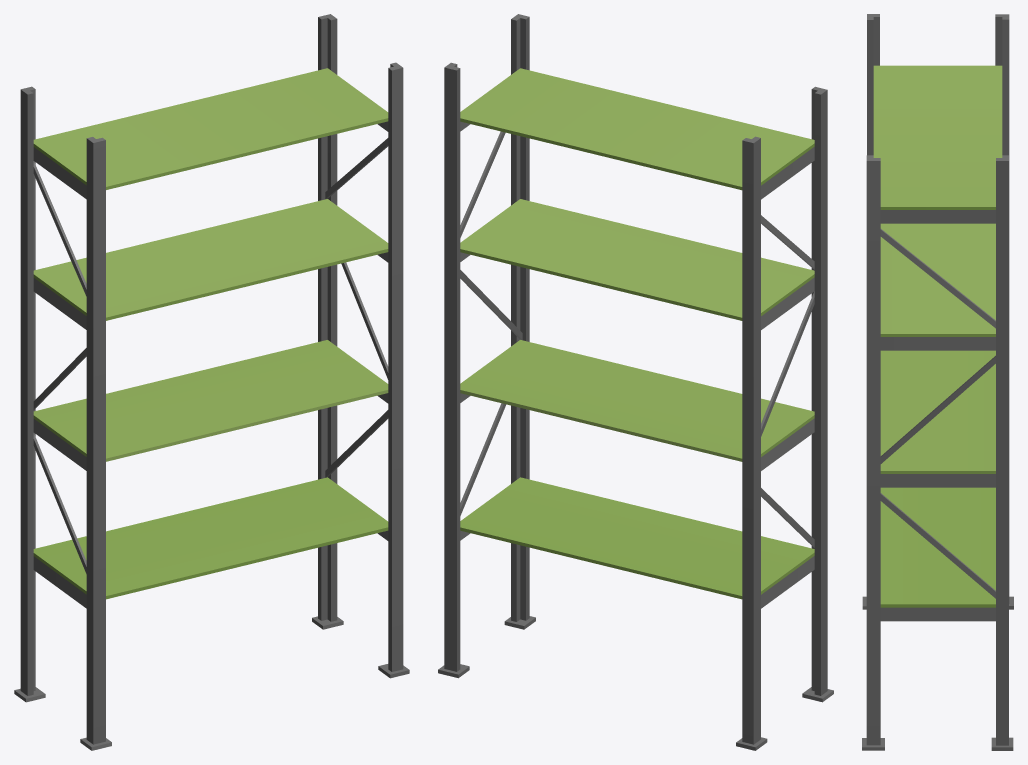
Rendered from Rack.FBX.
3 renders of one model, left to right at view 1: azimuth 30°, elevation 25°; view 2: azimuth 150°, elevation 25°; view 3: azimuth 270°, elevation 25°, orthographic. The views are drawn at different scales.
Parts seen in each view (by area): view 1: Object001; view 2: Object001; view 3: Object001.
Boxes of the visible parts, box(x1,y1,x2,y2) form: Object001: box(14, 14, 409, 750); Object001: box(438, 14, 833, 750); Object001: box(862, 14, 1013, 750).
Size of the model in its own units: 149 by 271 by 63.44.
